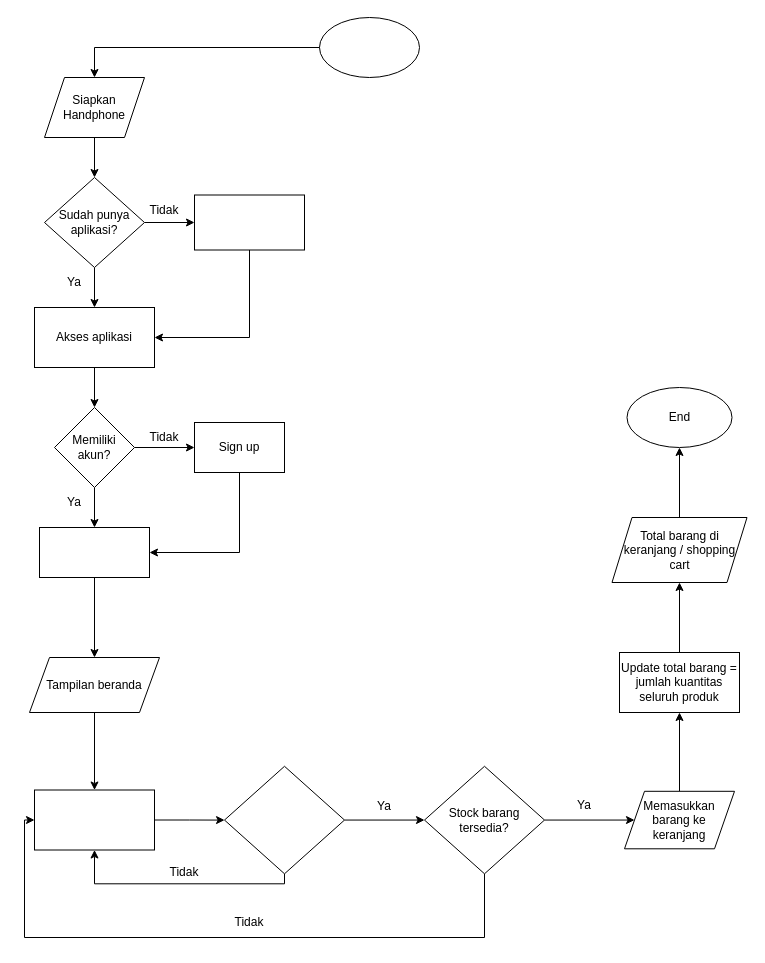
The diagram is 765 pixels wide and 963 high, and some of its shapes have lost their labels. Each missing label, with the box of its shape:
Download aplikasi: (194, 194, 304, 250)
Login: (38, 526, 150, 578)
Mencari barang/produk: (34, 789, 154, 850)
Mendapatkan barang/produk yang dicari?: (224, 765, 344, 874)
Start: (318, 16, 420, 78)
